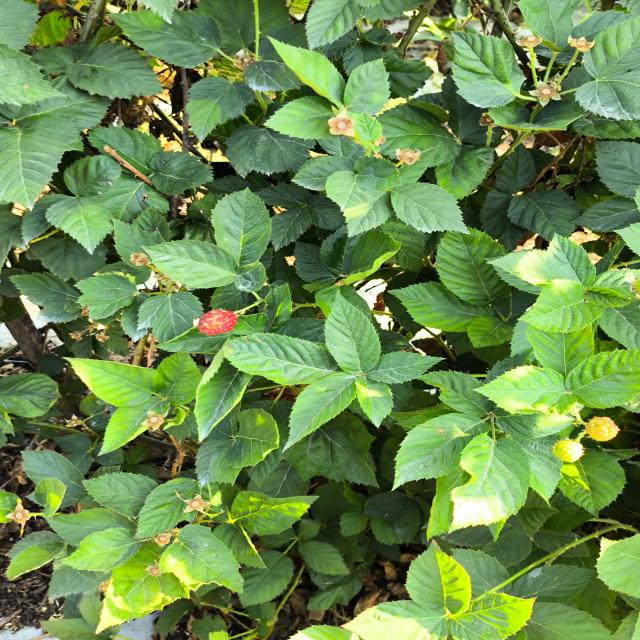naranja: (198, 309, 238, 335)
verde: (585, 417, 620, 441), (552, 439, 584, 463)
